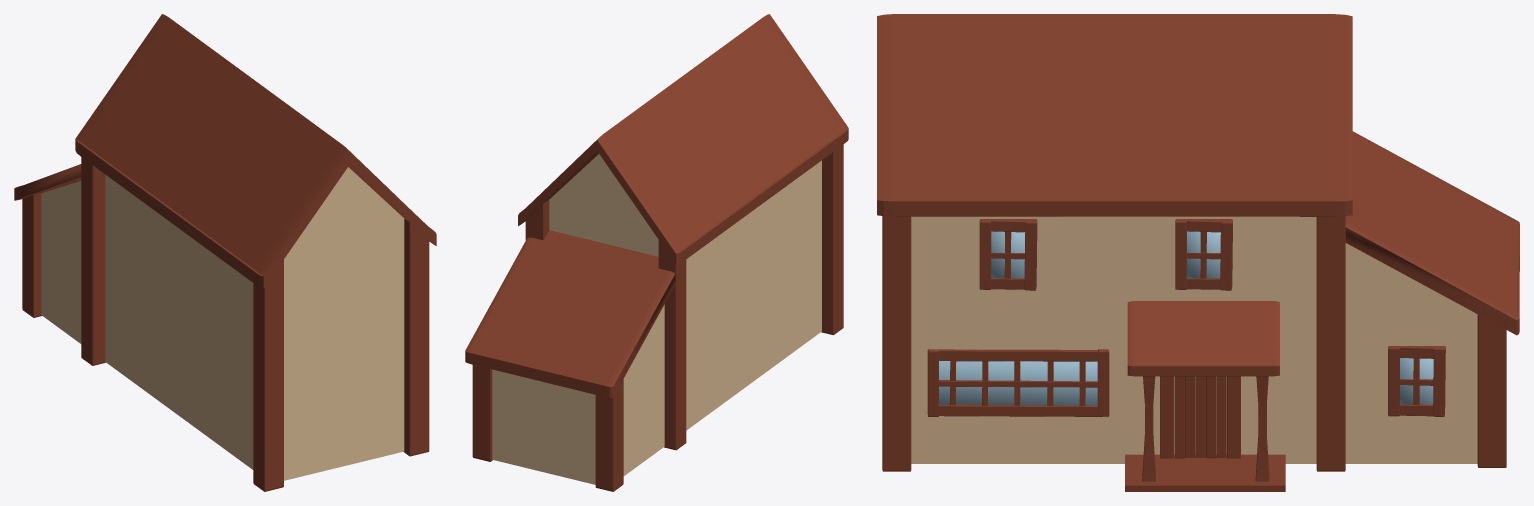
Rendered from house4.fbx.
The picture shows the model from 3 angles, left to right: view 1: azimuth 30°, elevation 25°; view 2: azimuth 150°, elevation 25°; view 3: azimuth 270°, elevation 25°; orthographic projection. The views are drawn at different scales.
Parts seen in each view (by area): view 1: Cube, Cube.003, Cube.007, Cube.001, Cube.008, Cube.006, Cube.034, Cube.004; view 2: Cube.003, Cube, Cube.004, Cube.001, Cube.006, Cube.007, Cube.034, Cube.035, Cube.005; view 3: Cube.003, Cube, Cube.001, Cube.004, Cube.016, Cube.008, Cube.005, Cube.053, Plane.003, Cube.035, Cube.046, Cube.047 (+21 smaller).
Boxes of the visible parts, x1,y1,x2,y2 form: Cube: (105,167,404,480); Cube.003: (75,14,436,288); Cube.007: (253,260,283,491); Cube.001: (41,181,81,343); Cube.008: (403,219,429,456); Cube.006: (81,157,105,365); Cube.034: (22,193,41,317); Cube.004: (14,164,81,200); Cube.003: (518,14,848,264); Cube: (549,154,821,430); Cube.004: (465,230,675,397); Cube.001: (492,304,664,484); Cube.006: (658,240,686,450); Cube.007: (821,144,843,335); Cube.034: (595,379,623,491); Cube.035: (472,365,492,461); Cube.005: (525,200,549,240); Cube.003: (877,14,1352,216); Cube: (911,216,1316,463); Cube.001: (1345,243,1477,463); Cube.004: (1345,131,1519,335); Cube.016: (1127,301,1279,376); Cube.008: (882,216,911,471); Cube.005: (1316,216,1345,471); Cube.053: (1125,454,1285,491); Plane.003: (939,361,1097,405); Cube.035: (1477,314,1506,467); Cube.046: (938,349,1097,361); Cube.047: (939,404,1098,416).
Bounding box in the file's own units: 2144 × 3152 × 4502.
